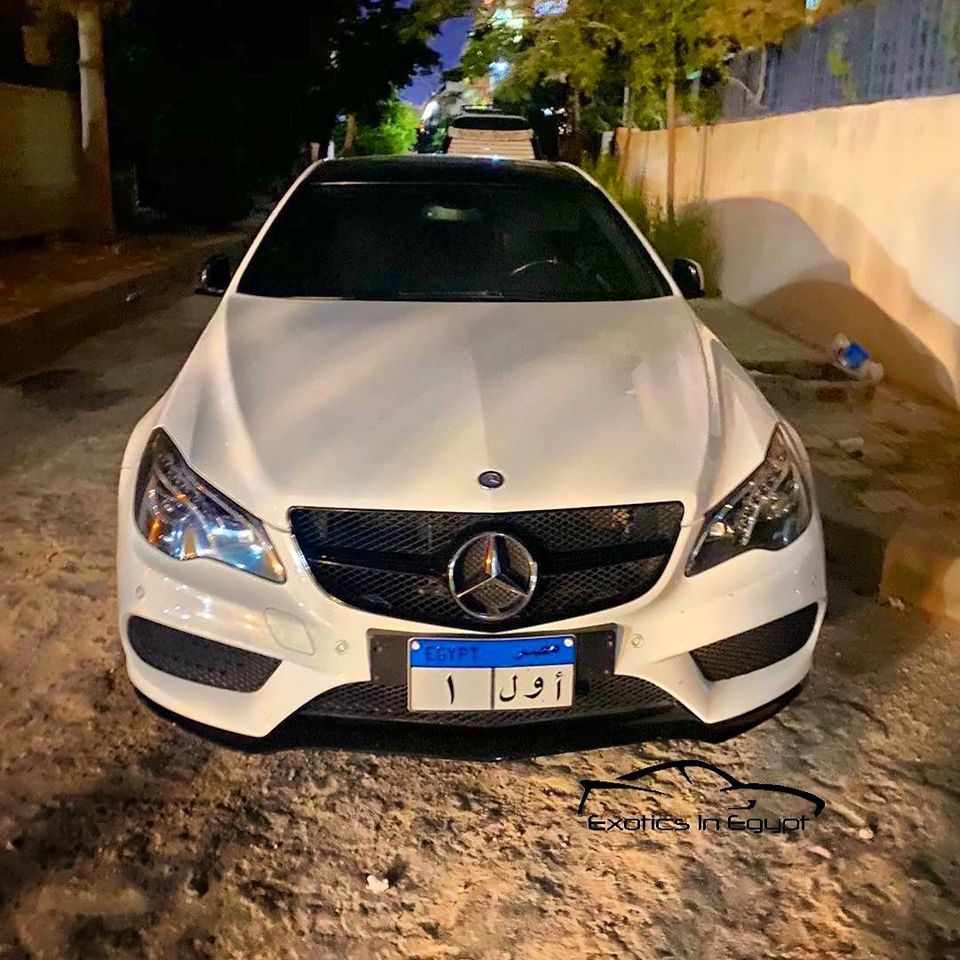carpl: (409, 640, 583, 712)
